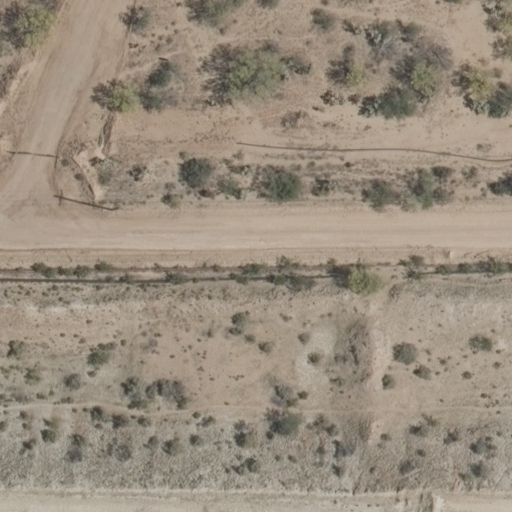DT: (100, 197, 129, 215)
